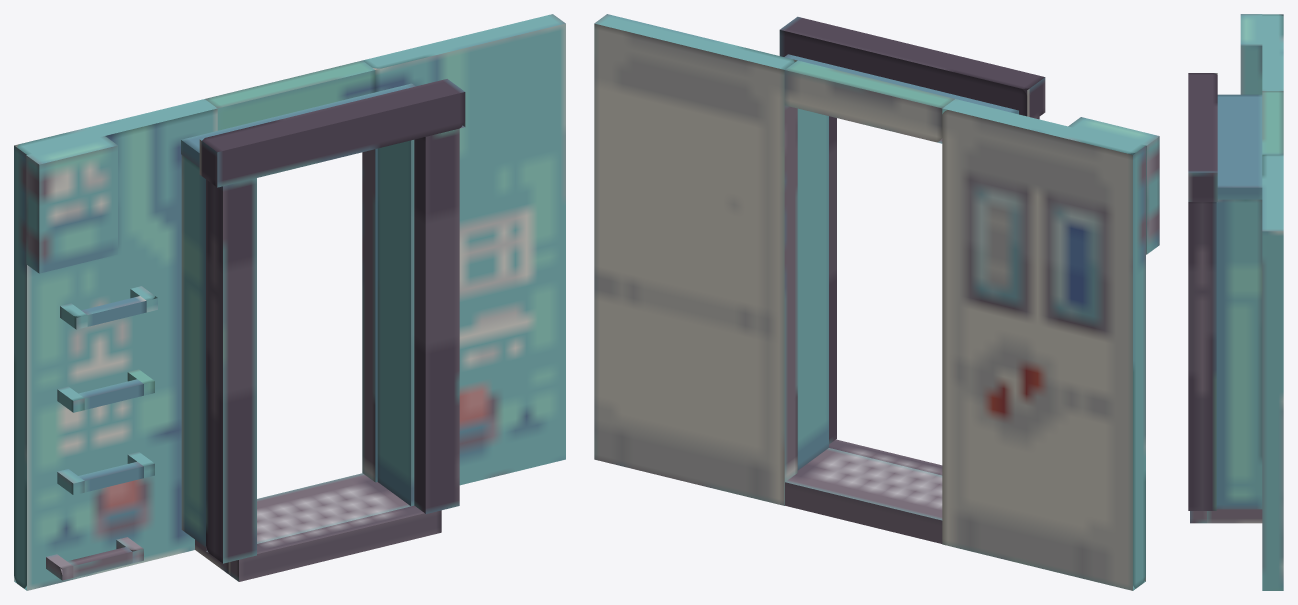
Rendered from end_face_original_25z_3.obj.
3 views of the same model, side by side, from view 1: azimuth 30°, elevation 25°; view 2: azimuth 150°, elevation 25°; view 3: azimuth 270°, elevation 25° (orthographic). The views are drawn at different scales.
Visible parts, largest first — view 1: cube; view 2: cube; view 3: cube.
Boxes of the visible parts, box(x1,y1,x2,y2) form: cube: box(14, 14, 565, 590); cube: box(594, 14, 1159, 590); cube: box(1188, 14, 1283, 590).
Bounding box in the file's own units: 3 × 2.31 × 0.5562.
